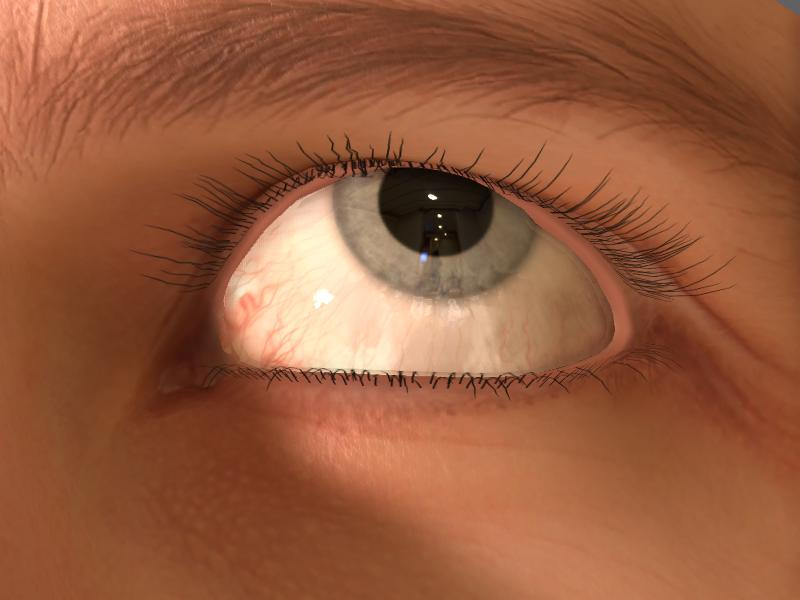eye: (334, 166, 535, 299)
